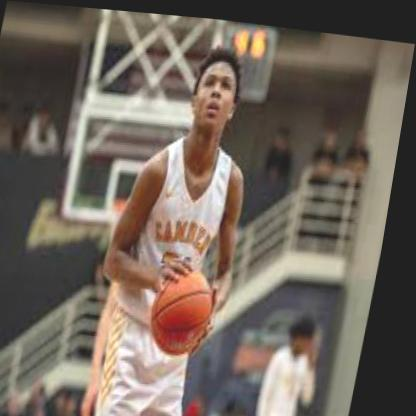basketball: (155, 263, 228, 355)
